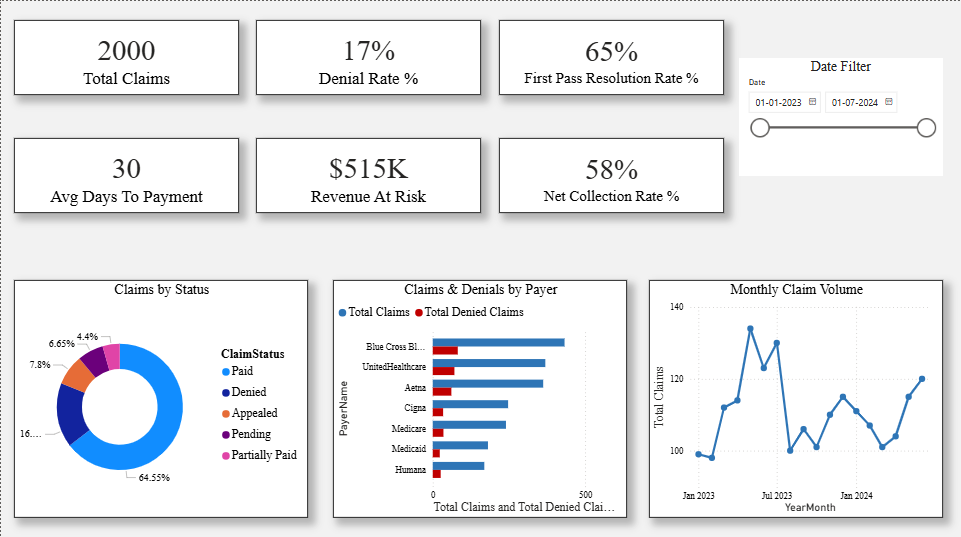

The page's visual inventory and layout, read from the dashboard file:
{"tool":"powerbi","page":{"name":"Executive Overview","canvas":[1280,720],"ordinal":0},"visuals":[{"type":"card","fields":{"Values":["Measures Table.Total Claims"]},"box":[17.5,25.4,300,100],"z":0},{"type":"card","fields":{"Values":["Measures Table.Denial Rate %"]},"box":[339.7,25.4,300,100],"z":1000},{"type":"card","fields":{"Values":["Measures Table.First Pass Resolution Rate %"]},"box":[663.5,25.4,300,100],"z":2000},{"type":"card","fields":{"Values":["Measures Table.Avg Days To Payment"]},"box":[17.5,182.5,300,100],"z":3000},{"type":"card","fields":{"Values":["Measures Table.Net Collection Rate %"]},"box":[663.5,182.5,300,100],"z":4000},{"type":"card","fields":{"Values":["Measures Table.Revenue At Risk"]},"box":[339.7,182.5,300,100],"z":5000},{"type":"donutChart","title":"Claims by Status","fields":{"Y":["Measures Table.Total Claims"],"Category":["Claims_Data.ClaimStatus"]},"box":[17.5,371.4,392,317.5],"z":6000},{"type":"clusteredBarChart","title":"Claims & Denials by Payer","fields":{"Category":["Claims_Data.PayerName"],"Y":["Measures Table.Total Claims","Measures Table.Total Denied Claims"]},"box":[442.9,371.4,392.1,317.5],"z":7000},{"type":"lineChart","title":"Monthly Claim Volume","fields":{"Category":["Date_Table.YearMonth"],"Y":["Measures Table.Total Claims"]},"box":[863.5,371.4,392.1,317.5],"z":8000},{"type":"slicer","title":"Date Filter","fields":{"Values":["Date_Table.Date"]},"box":[984.1,76.2,271.4,157.1],"z":9000}]}

Visuals, with their boxes in screenshot pixels (x1, y1, x2, y2), scaled from the page's 1280x720 canvas onto the 961x537 screenshot:
card - Measures Table.Total Claims: rect(13, 19, 238, 94)
card - Measures Table.Denial Rate %: rect(255, 19, 480, 94)
card - Measures Table.First Pass Resolution Rate %: rect(498, 19, 723, 94)
card - Measures Table.Avg Days To Payment: rect(13, 136, 238, 211)
card - Measures Table.Net Collection Rate %: rect(498, 136, 723, 211)
card - Measures Table.Revenue At Risk: rect(255, 136, 480, 211)
"Claims by Status" donutChart: rect(13, 277, 307, 514)
"Claims & Denials by Payer" clusteredBarChart: rect(333, 277, 627, 514)
"Monthly Claim Volume" lineChart: rect(648, 277, 943, 514)
"Date Filter" slicer: rect(739, 57, 943, 174)
